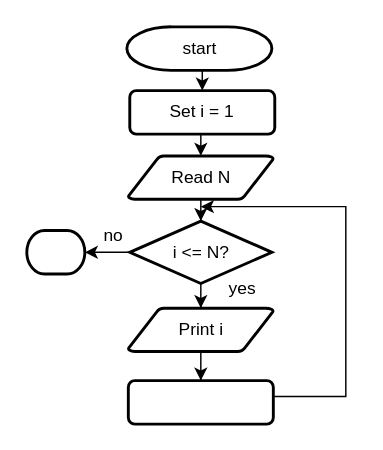
The diagram is 383 pixels wide and 450 high, and some of its shapes have lost their labels. Here are the shapes that lost their labels. From the top down, the centre of each, then its label:
At point 55,251: "end".
At point 200,401: "Set i = i +1".
